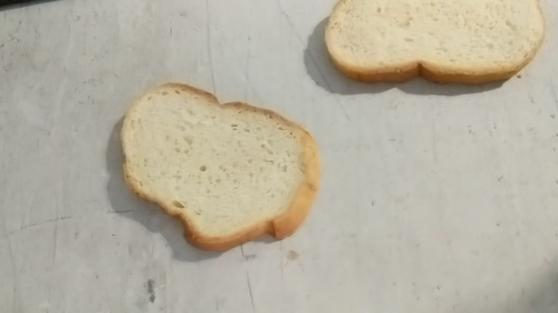white_bread: (119, 82, 318, 252), (324, 2, 545, 87)
